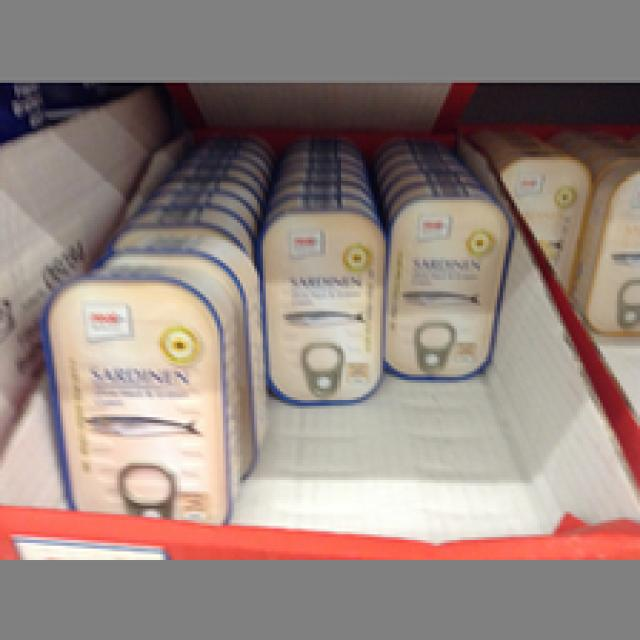groceries: (40, 266, 240, 520), (257, 206, 380, 400), (383, 194, 511, 380), (500, 152, 591, 297)
